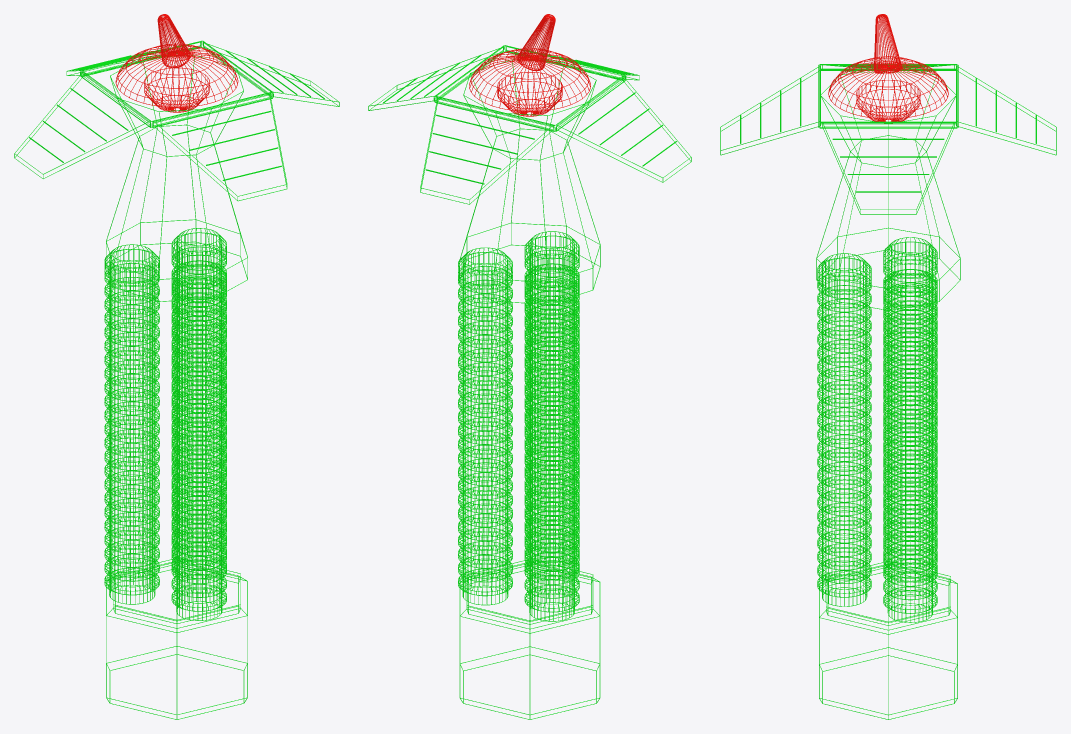
File: solar-matrix-highlight-laser-turret.glb
The picture shows the model from 3 angles, left to right: view 1: azimuth 30°, elevation 25°; view 2: azimuth 150°, elevation 25°; view 3: azimuth 270°, elevation 25°; orthographic projection.
Parts seen in each view (by area): view 1: storage-cells technical wire, chassis technical wire, laser-turret technical wire, solar-panels technical wire, solar-panels Collector hinge 4 technical wire, solar-panels Collector hinge 3 technical wire, solar-panels Collector hinge 1 technical wire, solar-panels Collector hinge 2 technical wire; view 2: storage-cells technical wire, chassis technical wire, laser-turret technical wire, solar-panels technical wire, solar-panels Collector hinge 2 technical wire, solar-panels Collector hinge 3 technical wire, solar-panels Collector hinge 1 technical wire, solar-panels Collector hinge 4 technical wire; view 3: storage-cells technical wire, chassis technical wire, laser-turret technical wire, solar-panels technical wire, solar-panels Collector hinge 1 technical wire, solar-panels Collector hinge 2 technical wire, solar-panels Collector hinge 4 technical wire.
Part boxes in pixels (x1=…): storage-cells technical wire: x1=104, y1=228, x2=226, y2=620; chassis technical wire: x1=106, y1=55, x2=247, y2=719; laser-turret technical wire: x1=115, y1=14, x2=238, y2=112; solar-panels technical wire: x1=80, y1=40, x2=273, y2=127; solar-panels Collector hinge 4 technical wire: x1=153, y1=94, x2=287, y2=201; solar-panels Collector hinge 3 technical wire: x1=14, y1=72, x2=150, y2=178; solar-panels Collector hinge 1 technical wire: x1=203, y1=42, x2=339, y2=106; solar-panels Collector hinge 2 technical wire: x1=66, y1=42, x2=200, y2=75; storage-cells technical wire: x1=458, y1=231, x2=579, y2=621; chassis technical wire: x1=459, y1=59, x2=600, y2=719; laser-turret technical wire: x1=469, y1=14, x2=590, y2=116; solar-panels technical wire: x1=433, y1=45, x2=626, y2=131; solar-panels Collector hinge 2 technical wire: x1=420, y1=98, x2=553, y2=204; solar-panels Collector hinge 3 technical wire: x1=556, y1=76, x2=691, y2=182; solar-panels Collector hinge 1 technical wire: x1=368, y1=46, x2=503, y2=110; solar-panels Collector hinge 4 technical wire: x1=506, y1=46, x2=639, y2=80; storage-cells technical wire: x1=817, y1=237, x2=937, y2=622; chassis technical wire: x1=816, y1=66, x2=960, y2=719; laser-turret technical wire: x1=828, y1=14, x2=948, y2=123; solar-panels technical wire: x1=818, y1=64, x2=958, y2=128; solar-panels Collector hinge 1 technical wire: x1=822, y1=123, x2=954, y2=214; solar-panels Collector hinge 2 technical wire: x1=956, y1=65, x2=1056, y2=155; solar-panels Collector hinge 4 technical wire: x1=720, y1=65, x2=820, y2=155.
Size of the model in its own units: 1.68 by 3.68 by 1.68.
